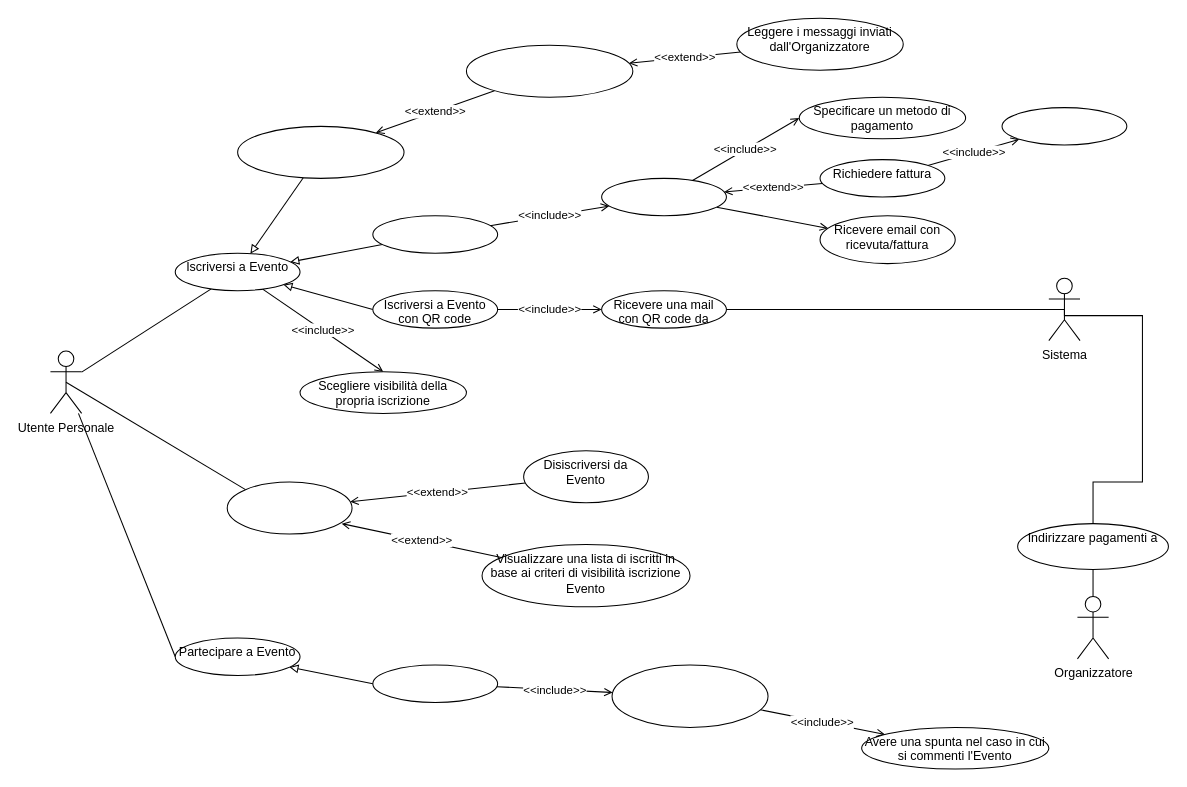
Some shapes in this 1187 by 787 pixel diagram are drawn without their labels. Here are the shapes that lost their labels. From the top down, the centre of each, then its label:
the point at 549,70: Unirsi al gruppo di messaggistica
the point at 1064,126: Inserire informazioni per fattura
the point at 320,151: Iscriversi a Evento con gruppo di messaggistica
the point at 663,196: Versare la quota indicata
the point at 435,234: Iscriversi a Evento a pagamento
the point at 289,507: Essere iscritto a Evento
the point at 435,683: Partecipare a Evento con QR code
the point at 689,695: Presentare QR code all'Organizzatore all'accesso all'Evento
